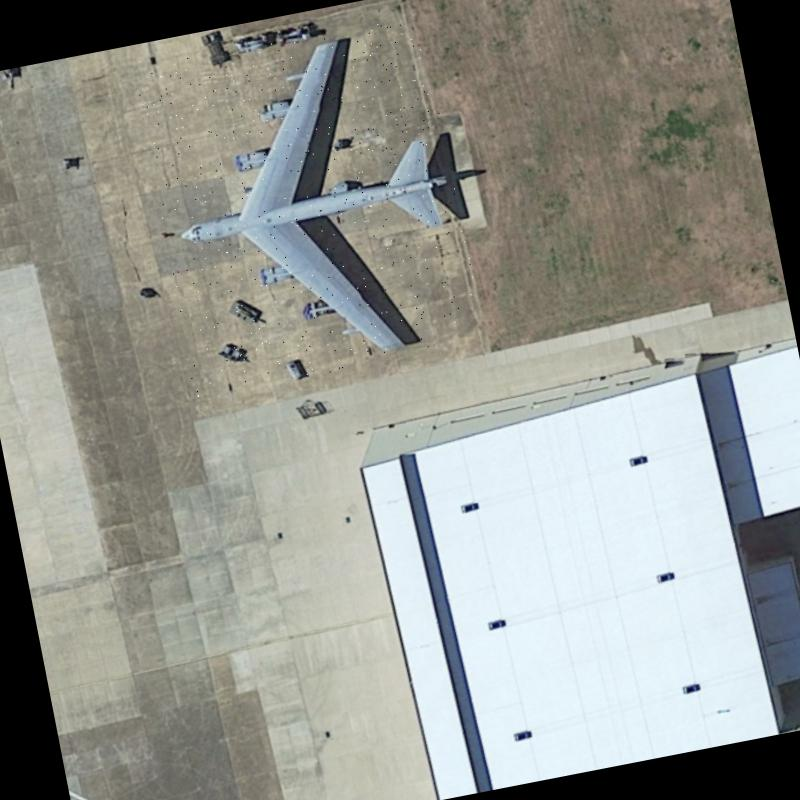A8: (130, 11, 488, 398)
